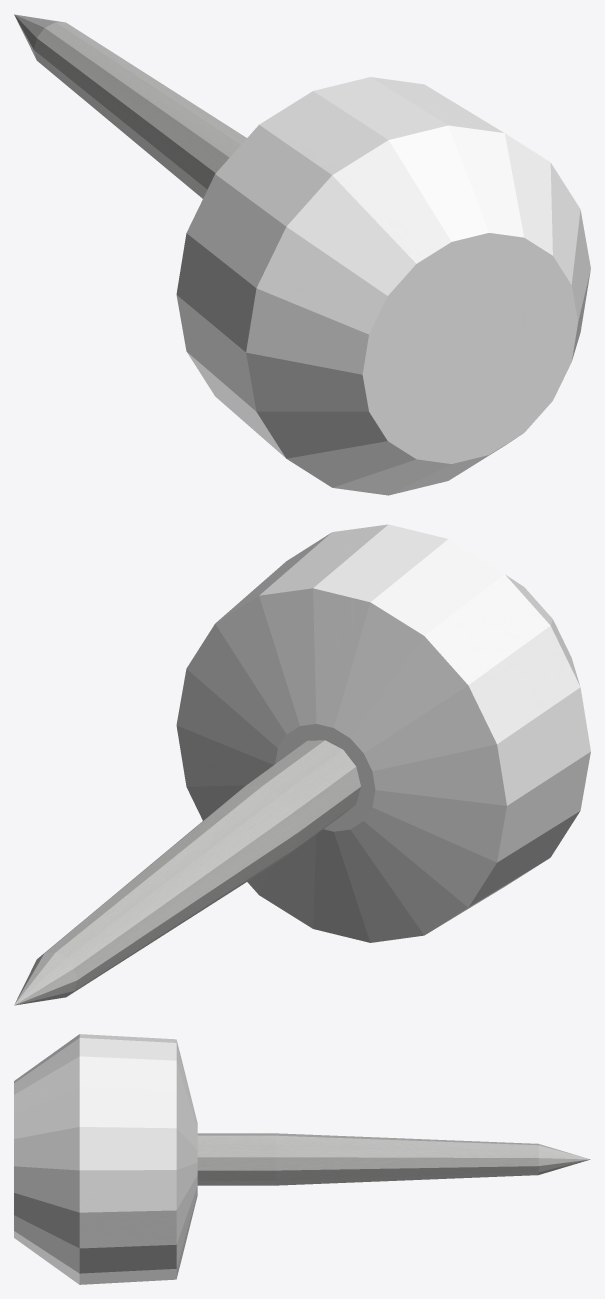
File: pin.gltf
The picture shows the model from 3 angles, top to bottom: view 1: azimuth 30°, elevation 25°; view 2: azimuth 150°, elevation 25°; view 3: azimuth 270°, elevation 25°; orthographic projection. The views are drawn at different scales.
Parts seen in each view (by area): view 1: jx_pin; view 2: jx_pin; view 3: jx_pin.
Part boxes in pixels (x1=…): jx_pin: x1=14, y1=14, x2=590, y2=495; jx_pin: x1=14, y1=524, x2=590, y2=1005; jx_pin: x1=14, y1=1034, x2=590, y2=1284.
Size of the model in its own units: 0.096 by 0.0945 by 0.22.
2 materials, 2 textured.
